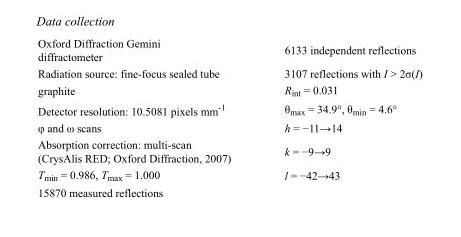table: (37, 36, 421, 198)
table column: (37, 36, 257, 198), (257, 36, 421, 198)
table row: (37, 135, 421, 165), (37, 36, 421, 64), (37, 99, 421, 119), (37, 81, 421, 99), (37, 165, 421, 183), (37, 64, 421, 81), (37, 119, 421, 135), (37, 183, 421, 198)
